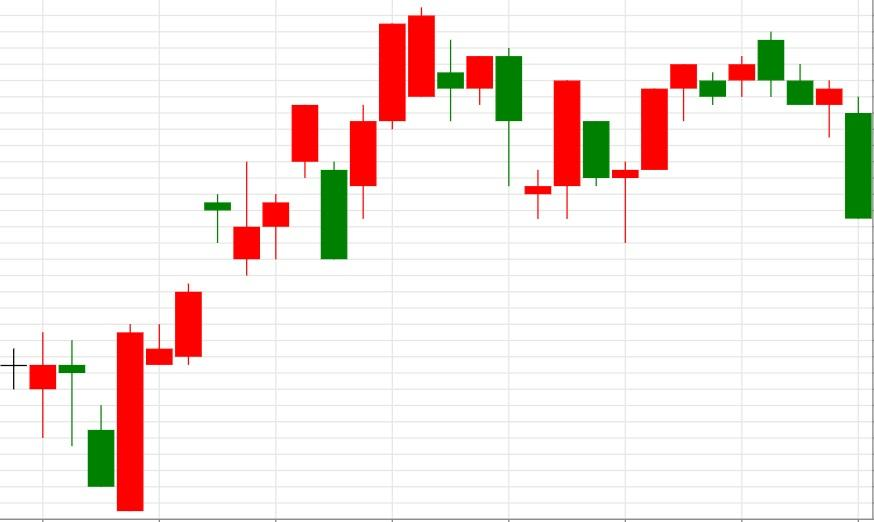bearish_engulfing_fall: (319, 7, 523, 260)
bullish_engulfing_rise: (0, 322, 144, 511)
